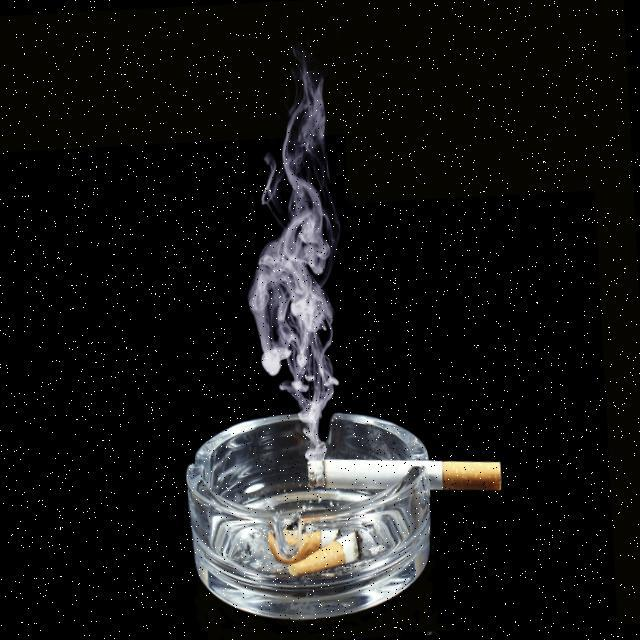cigarette: (306, 446, 508, 508)
